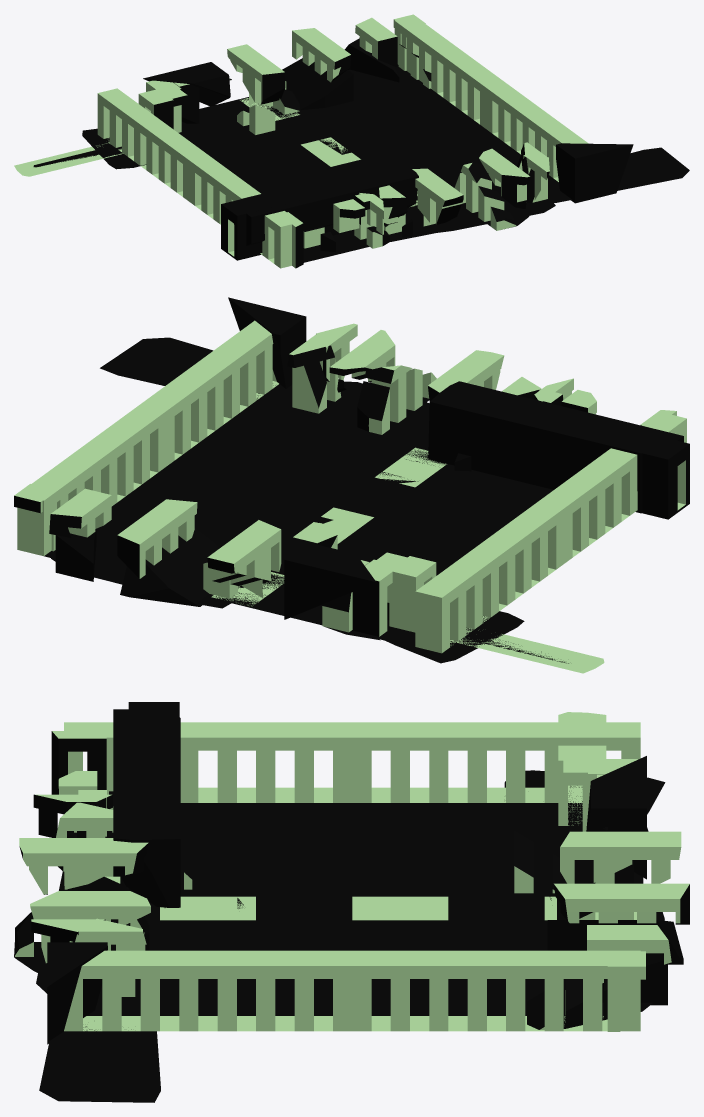
The model's file is Sci-fi_raceTrackStraight_Beta2.fbx.
3 views of the same model, one above another, from view 1: azimuth 30°, elevation 25°; view 2: azimuth 150°, elevation 25°; view 3: azimuth 270°, elevation 25° (orthographic). The views are drawn at different scales.
Visible parts, largest first — view 1: Plane, Plane_cell.010, Plane_cell.026, Plane_cell.004, Plane_cell.027, Plane_cell.013, Plane_cell.020, Plane_cell.017, Plane_cell.015, Plane_cell.018, Plane_cell.001, Plane_cell.006 (+18 smaller); view 2: Plane, Plane_cell.010, Plane_cell.027, Plane_cell.004, Plane_cell.019, Plane_cell.008, Plane_cell.017, Plane_cell.013, Plane_cell.001, Plane_cell.018, Plane_cell.026, Plane_cell.022 (+15 smaller); view 3: Plane, Plane_cell.027, Plane_cell.010, Plane_cell.018, Plane_cell.001, Plane_cell.006, Plane_cell.008, Plane_cell.026, Plane_cell.004, Plane_cell.002, Plane_cell.020, Plane_cell.016 (+15 smaller).
Boxes of the visible parts, x1,y1,x2,y2 form: Plane: (97,16,588,268); Plane_cell.010: (242,160,418,245); Plane_cell.026: (556,143,633,203); Plane_cell.004: (221,184,354,260); Plane_cell.027: (517,142,689,202); Plane_cell.013: (454,162,538,230); Plane_cell.020: (82,105,275,169); Plane_cell.017: (282,58,353,109); Plane_cell.015: (266,44,431,119); Plane_cell.018: (227,44,285,106); Plane_cell.001: (292,28,351,82); Plane_cell.006: (412,168,463,226); Plane: (17,320,686,653); Plane_cell.010: (428,381,683,513); Plane_cell.027: (100,334,341,413); Plane_cell.004: (541,419,689,519); Plane_cell.019: (389,556,604,673); Plane_cell.008: (284,542,375,619); Plane_cell.017: (120,528,219,606); Plane_cell.013: (321,365,436,434); Plane_cell.001: (117,499,197,578); Plane_cell.018: (207,520,281,597); Plane_cell.026: (228,297,306,388); Plane_cell.022: (278,381,474,471); Plane: (64,722,640,1031); Plane_cell.027: (39,918,160,1102); Plane_cell.010: (113,709,180,907); Plane_cell.018: (560,831,681,912); Plane_cell.001: (554,883,689,924); Plane_cell.006: (19,838,148,894); Plane_cell.008: (586,756,646,879); Plane_cell.026: (47,942,107,1044); Plane_cell.004: (128,702,179,891); Plane_cell.002: (30,891,150,963); Plane_cell.020: (504,770,665,893); Plane_cell.016: (587,925,671,983).
Size of the model in its own units: 1603 by 135 by 1172.
